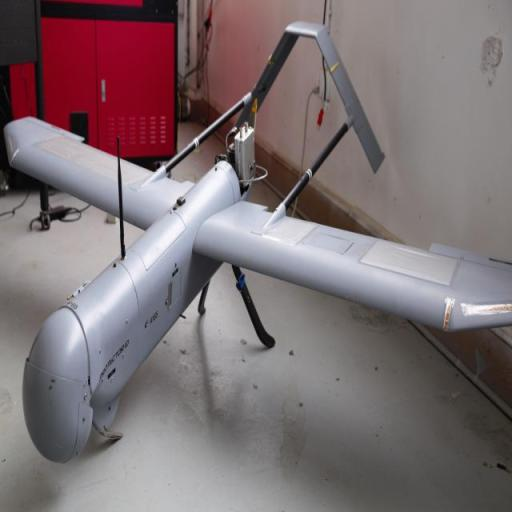uav: (3, 18, 512, 470)
